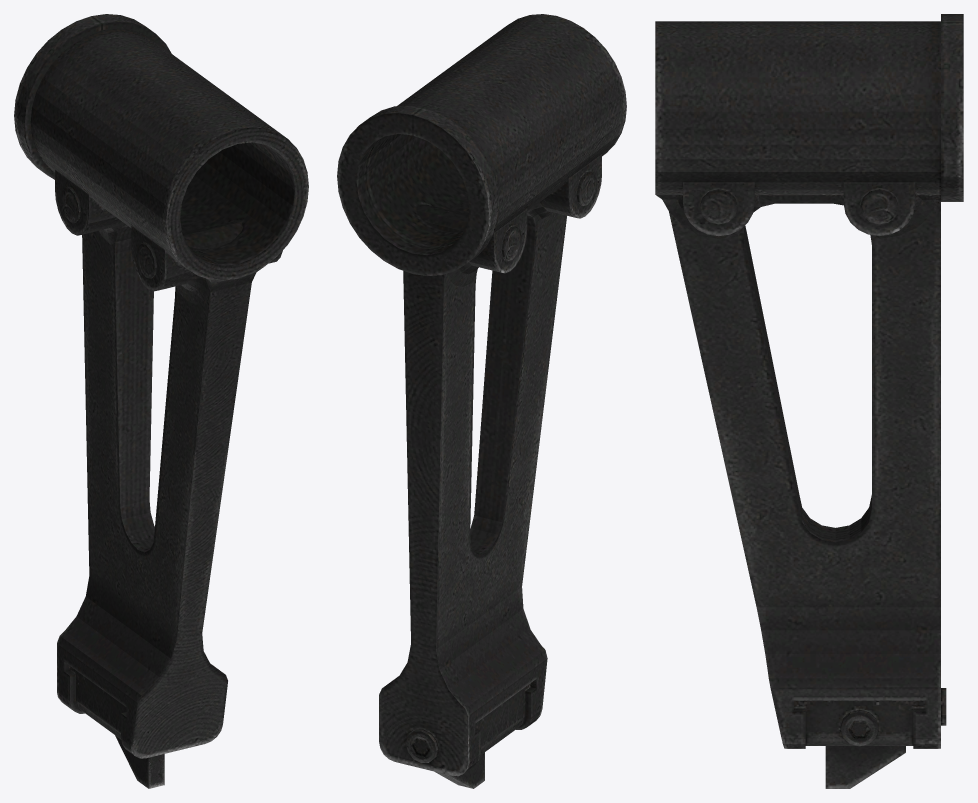
3 views of the same model, side by side, from view 1: azimuth 30°, elevation 25°; view 2: azimuth 150°, elevation 25°; view 3: azimuth 270°, elevation 25° (orthographic). The views are drawn at different scales.
Visible parts, largest first — view 1: TW_6601268bc752a02bbe05e686_PZ_Import; view 2: TW_6601268bc752a02bbe05e686_PZ_Import; view 3: TW_6601268bc752a02bbe05e686_PZ_Import.
Boxes of the visible parts, <box> form: TW_6601268bc752a02bbe05e686_PZ_Import: <box>14,14,308,788</box>; TW_6601268bc752a02bbe05e686_PZ_Import: <box>337,14,626,788</box>; TW_6601268bc752a02bbe05e686_PZ_Import: <box>655,14,963,788</box>.
Bounding box in the file's own units: 0.0124 × 0.0203 × 0.0553.
1 material, 1 textured.
